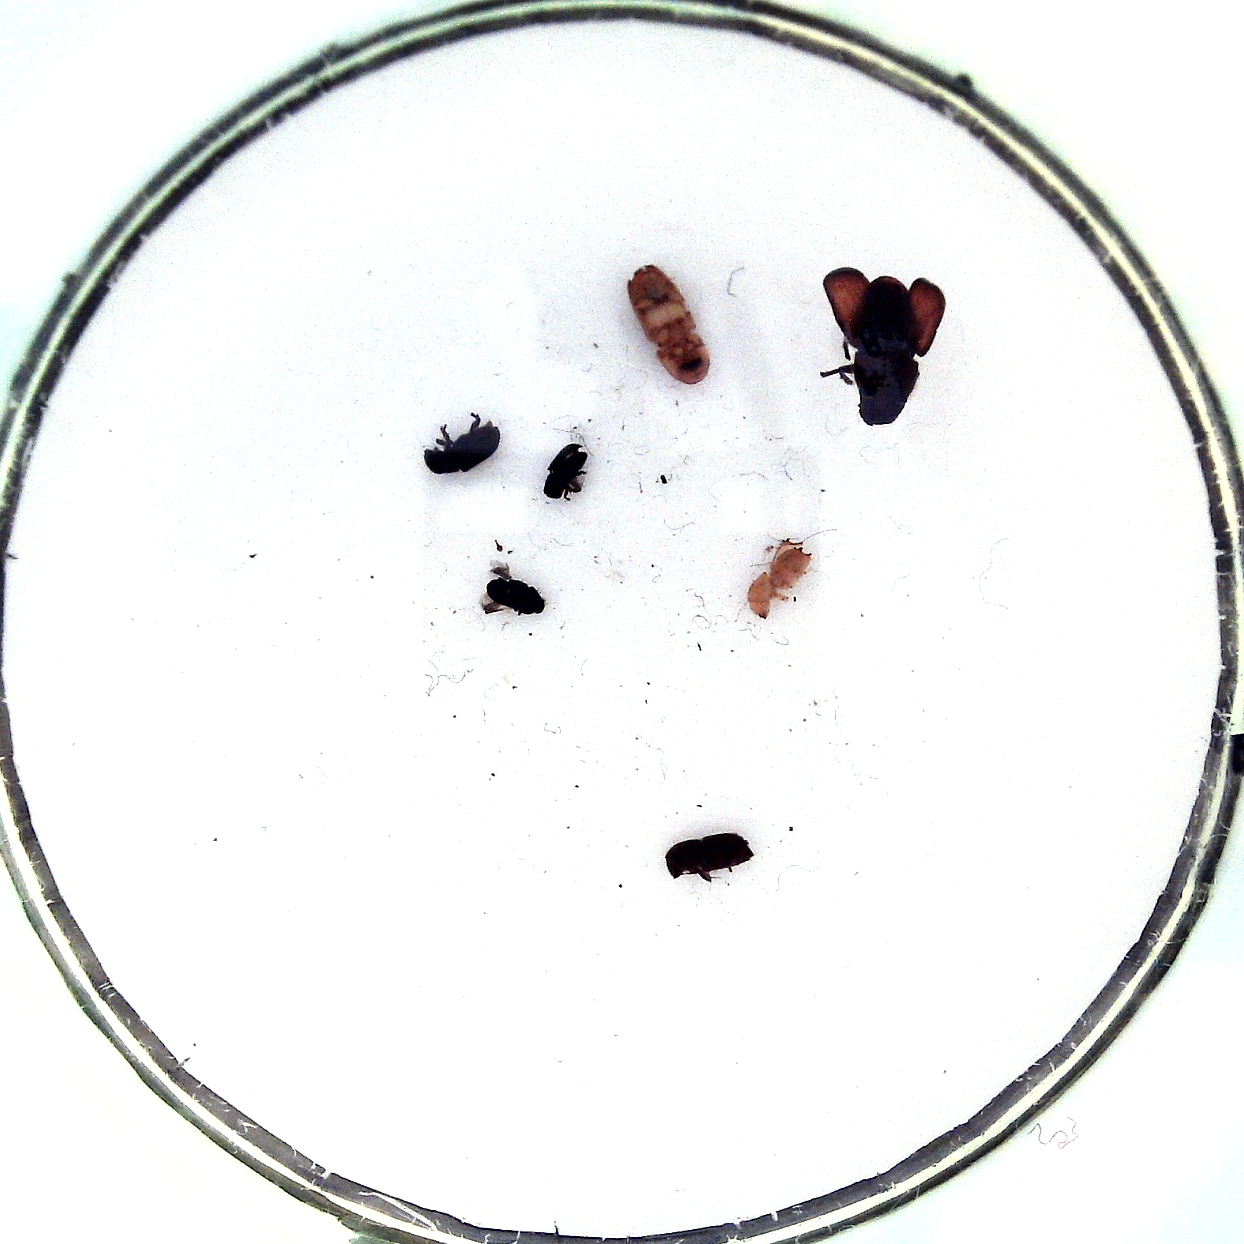Boerner: (627, 265, 710, 385)
Leconte: (849, 276, 922, 426)
acuminatus: (486, 576, 545, 616)
armandi: (423, 423, 499, 474)
coleoptera: (545, 443, 588, 501)
linnaeus: (747, 539, 813, 617), (665, 833, 756, 879)
